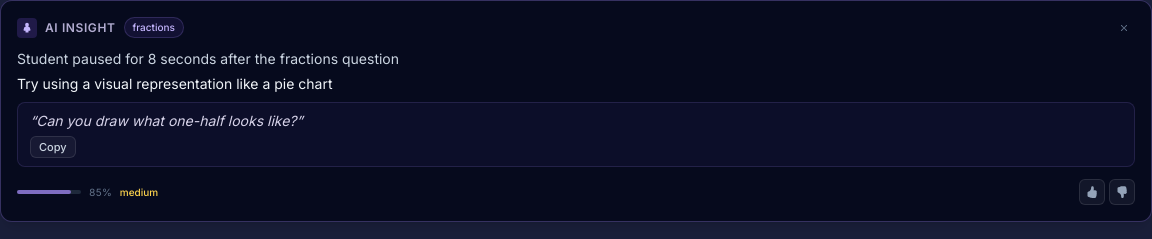
Scenario: AISuggestionCard › shows "Noted" after negative feedback
Click the button with test id "feedback-unhelpful-btn" at (1122, 192), box x1=1109 y1=179 x2=1135 y2=205
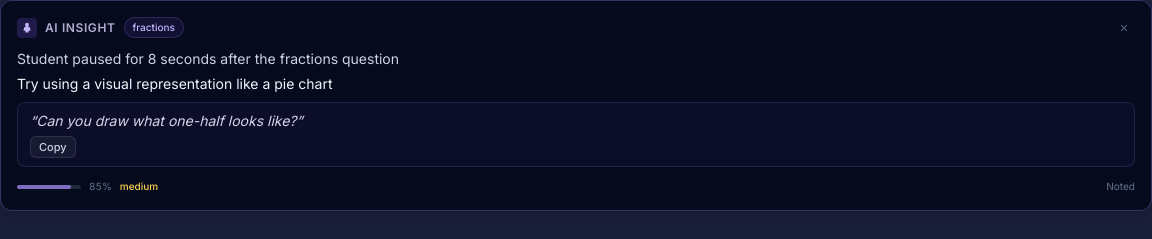
Result: the text with test id "feedback-thanks" reads "Noted" at x1=1106 y1=180 x2=1135 y2=192
